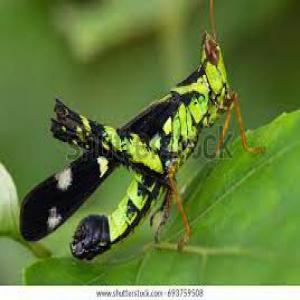locust: (26, 19, 237, 253)
